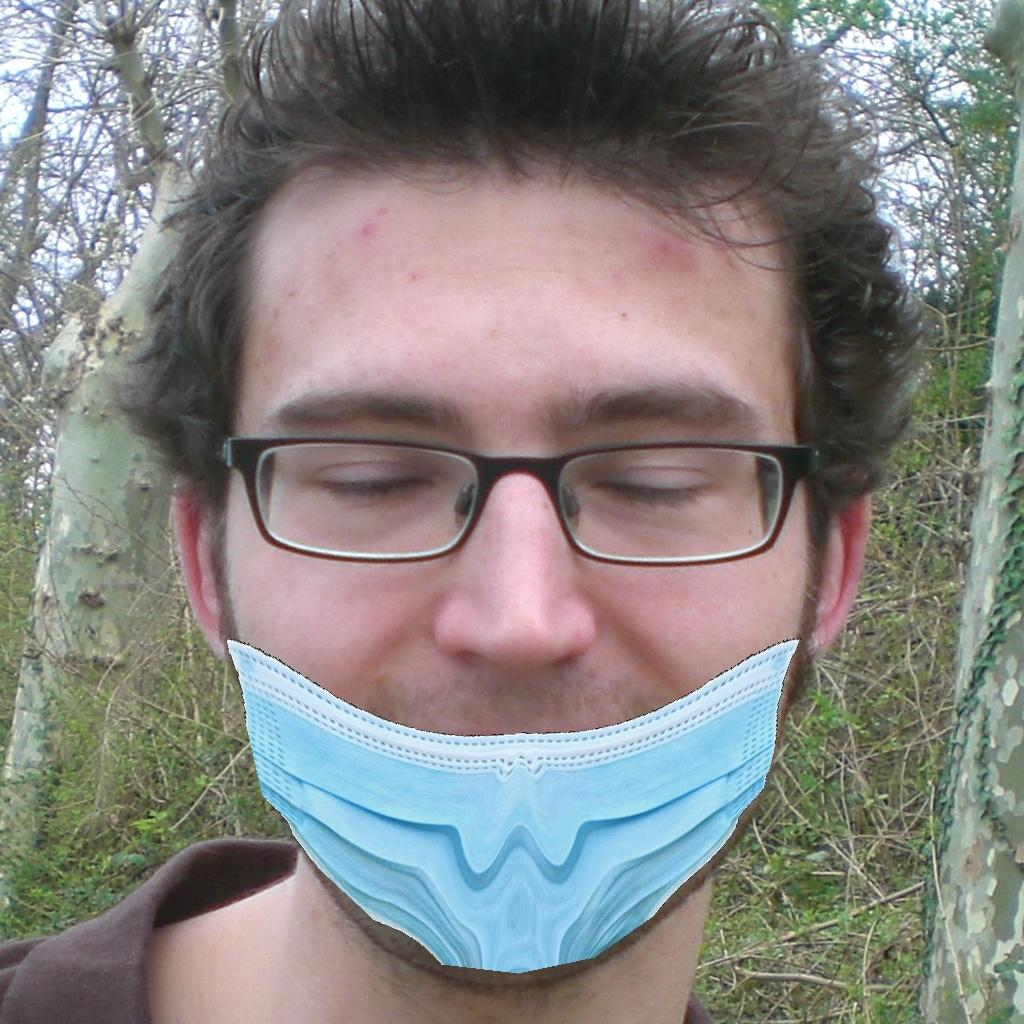Máscara Incorreta: (165, 218, 866, 917)
